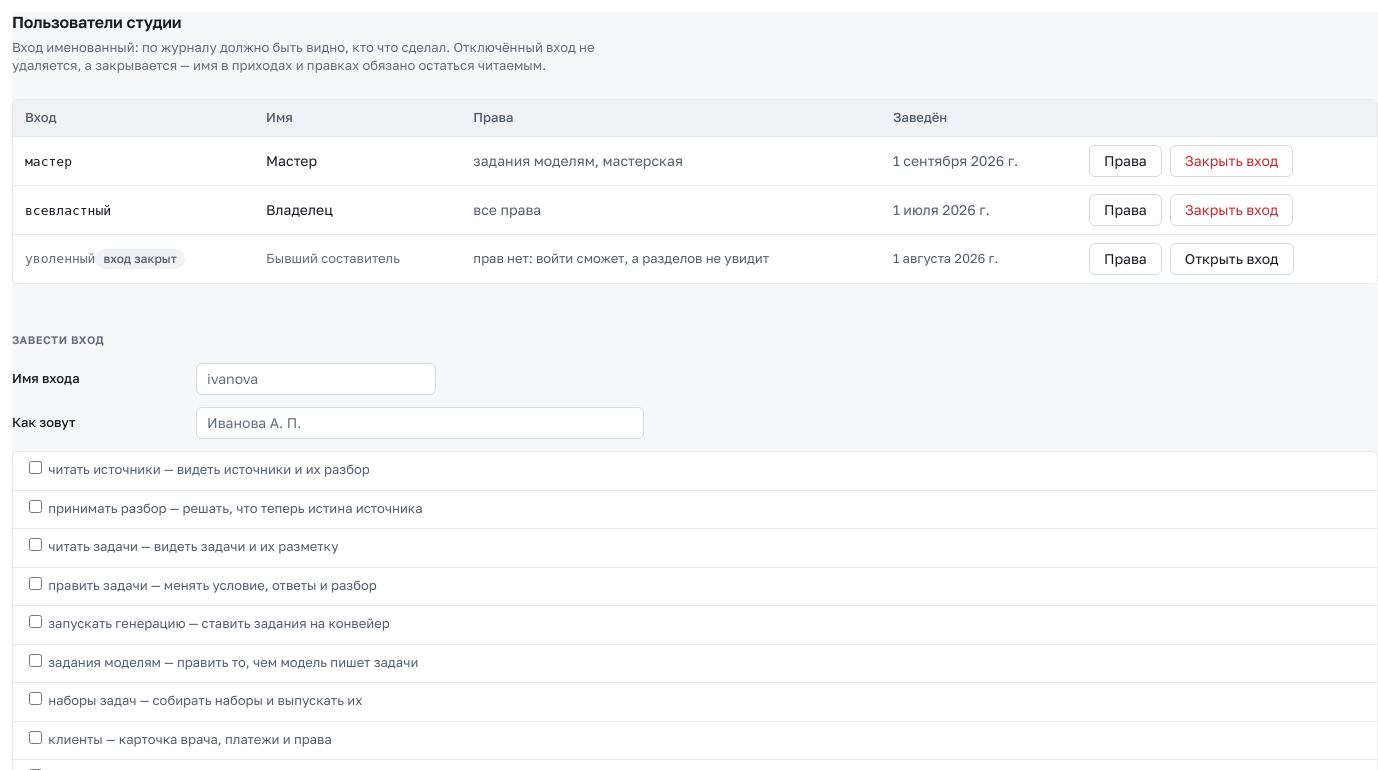
Test case: мастерская › отказ за последнего мастера показывается словами сервера
The width and height of the screenshot is (1378, 770).
Expected: the text "Бывший составитель" is shown, [254,234,461,283]
What coordinates should you click on to do the following:
click the button "Закрыть вход" in the row of "задания моделям, мастерская"
I would click on:
 (1232, 161)
Its box is [1170,145,1293,177].
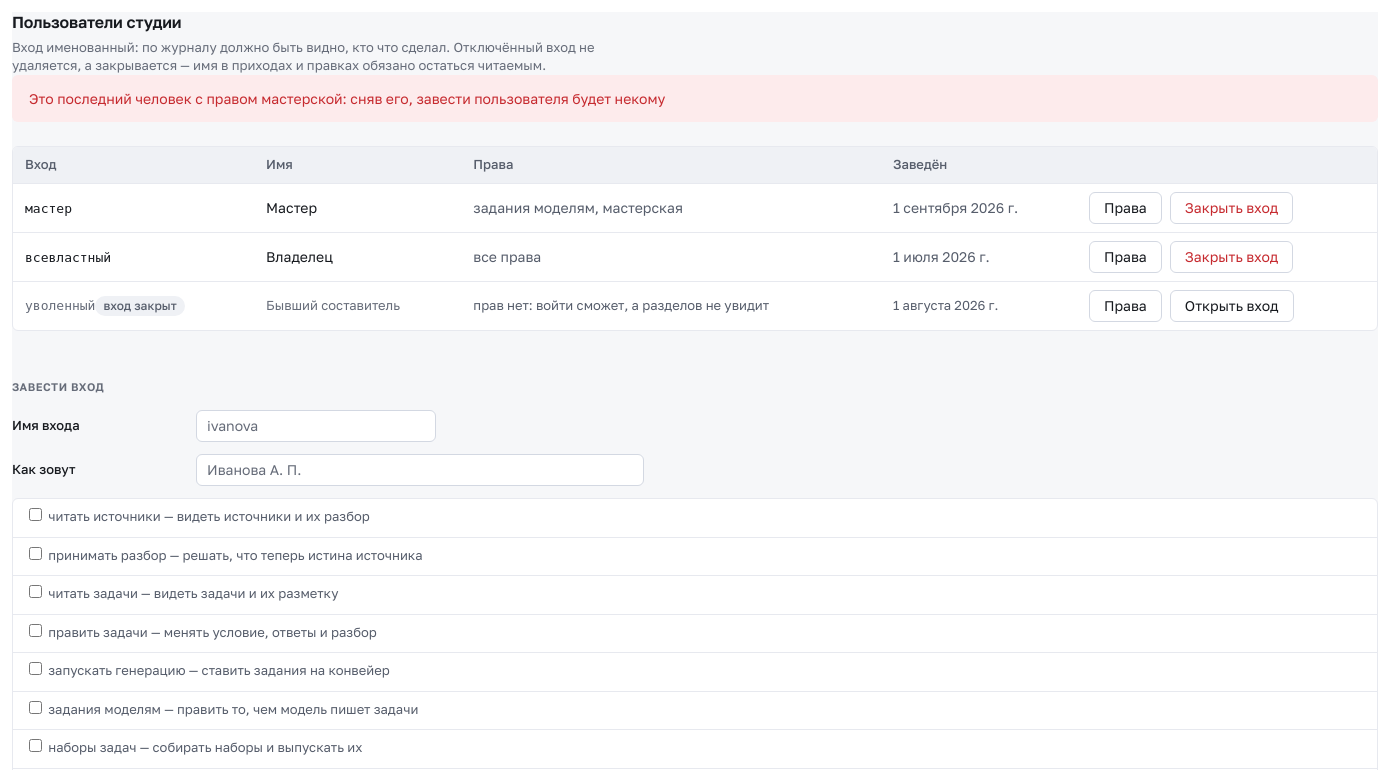
Now the text "последний человек с правом мастерской" is shown, box [29,90,665,107]
